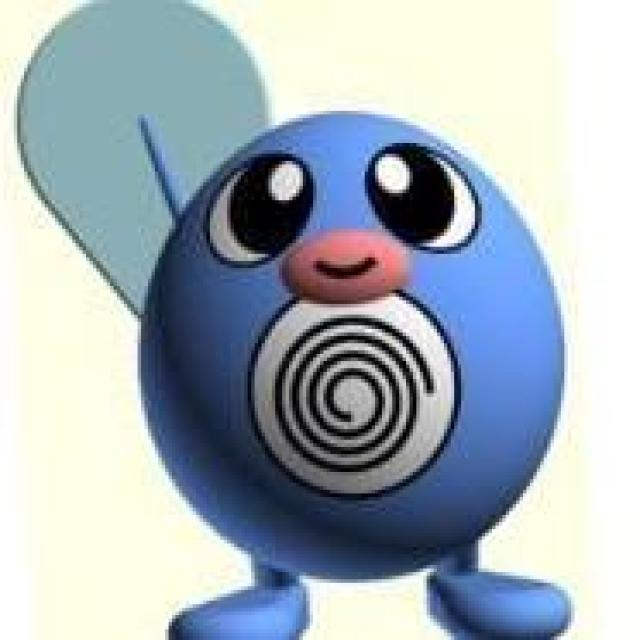Poliwag: (120, 44, 559, 640)
